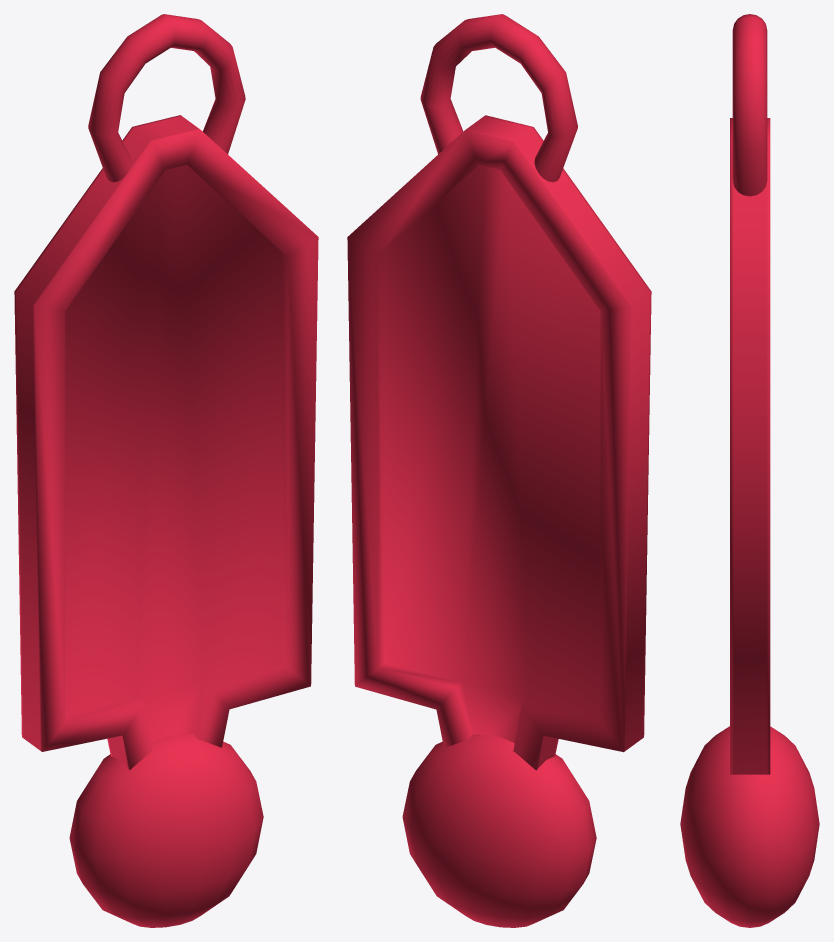
The model's file is M_Medaillon_Sphere.fbx.
The picture shows the model from 3 angles, left to right: view 1: azimuth 30°, elevation 25°; view 2: azimuth 150°, elevation 25°; view 3: azimuth 270°, elevation 25°; orthographic projection.
Parts seen in each view (by area): view 1: Medaillon4_Sphere; view 2: Medaillon4_Sphere; view 3: Medaillon4_Sphere.
Part boxes in pixels (box(x1,y1,x2,y2)): Medaillon4_Sphere: box(14, 14, 318, 927); Medaillon4_Sphere: box(347, 14, 651, 927); Medaillon4_Sphere: box(680, 14, 819, 927).
Size of the model in its own units: 6.84 by 20.87 by 2.92.
